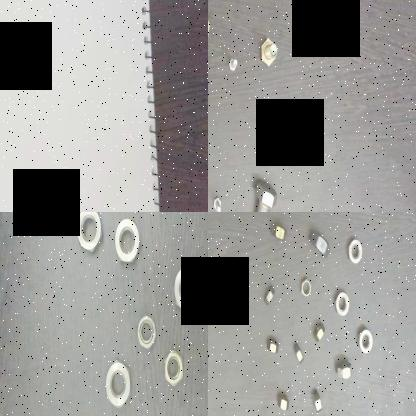Bolts: (251, 176, 279, 212), (258, 35, 279, 72), (269, 136, 291, 170), (226, 52, 238, 79), (211, 189, 223, 212), (208, 8, 213, 48)
NUTS: (102, 352, 136, 410), (169, 262, 203, 318), (73, 212, 107, 262), (114, 214, 142, 268), (162, 342, 190, 392), (308, 227, 332, 265), (134, 314, 158, 350), (345, 236, 368, 270), (357, 326, 376, 356), (336, 356, 354, 386), (270, 216, 288, 244), (334, 291, 352, 317), (310, 386, 324, 416), (312, 318, 328, 344), (262, 280, 276, 308), (292, 341, 306, 367), (276, 392, 291, 416), (300, 274, 312, 300), (267, 336, 281, 358)
